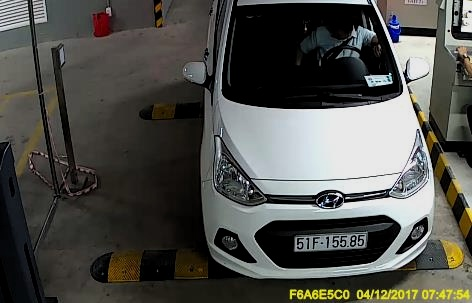plate: (293, 228, 367, 251)
